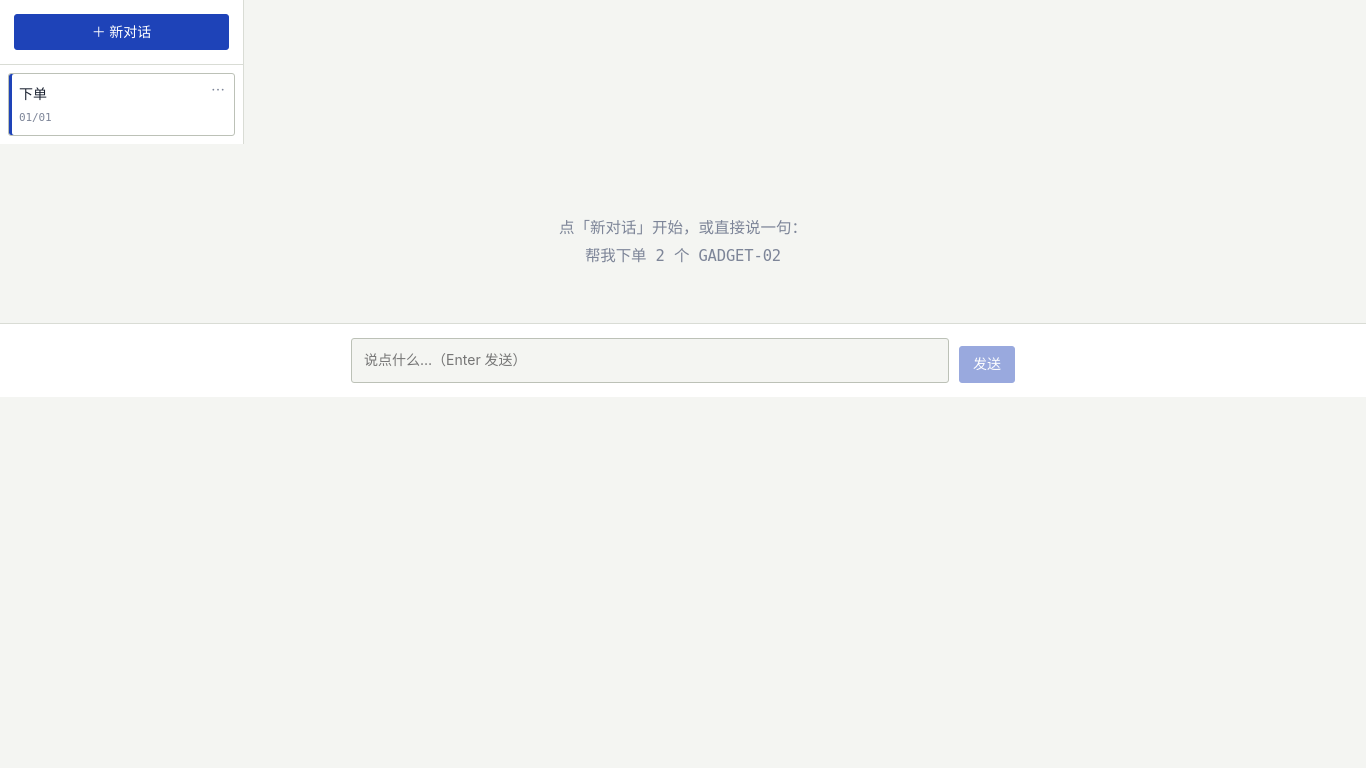
Test case: 忙时入队 › 一轮还在回答时再发一句：不另起一个 Run，而是排进这条会话的队伍
Type "第一句" into the text box with placeholder "说点什么…（Enter 发送）" at {"x": 650, "y": 360}, box 351,338 -> 949,383
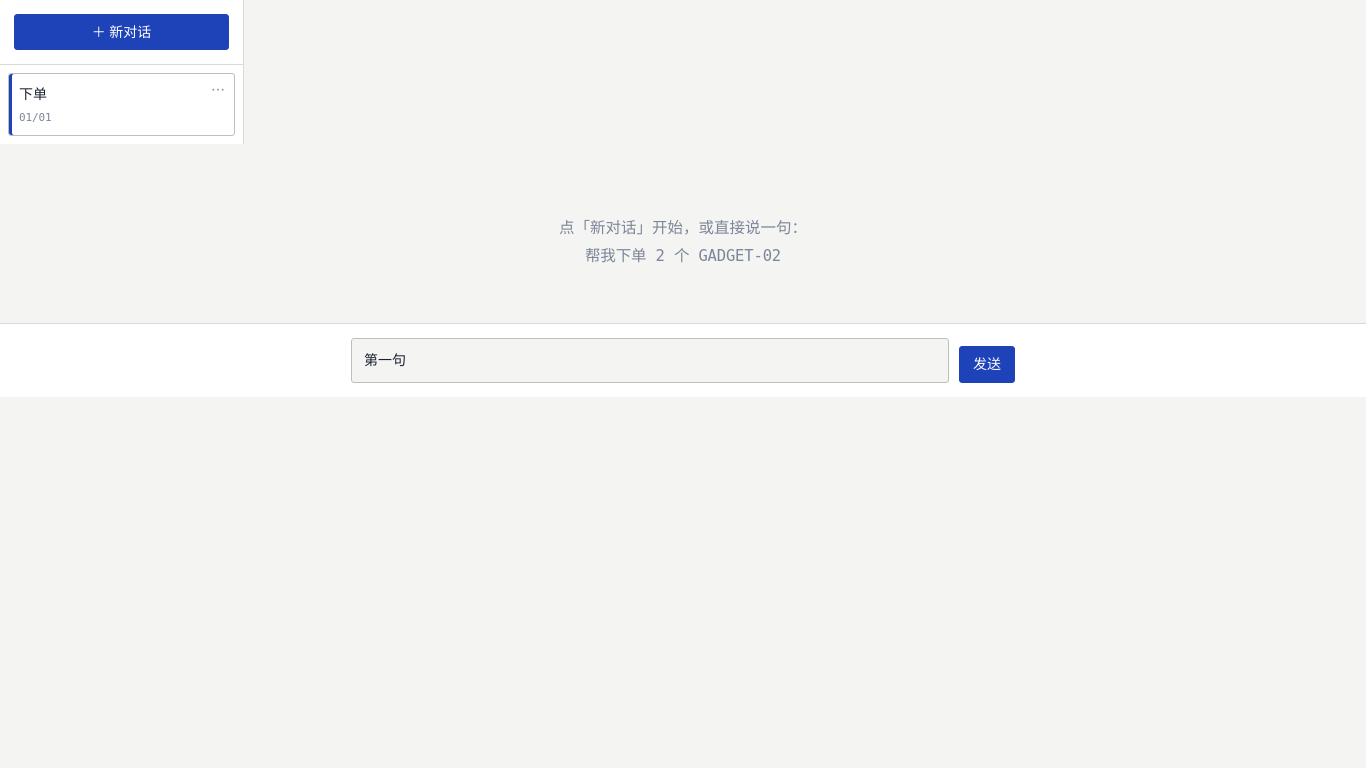
Click the button "发送" at {"x": 987, "y": 364}, box 959,346 -> 1015,383
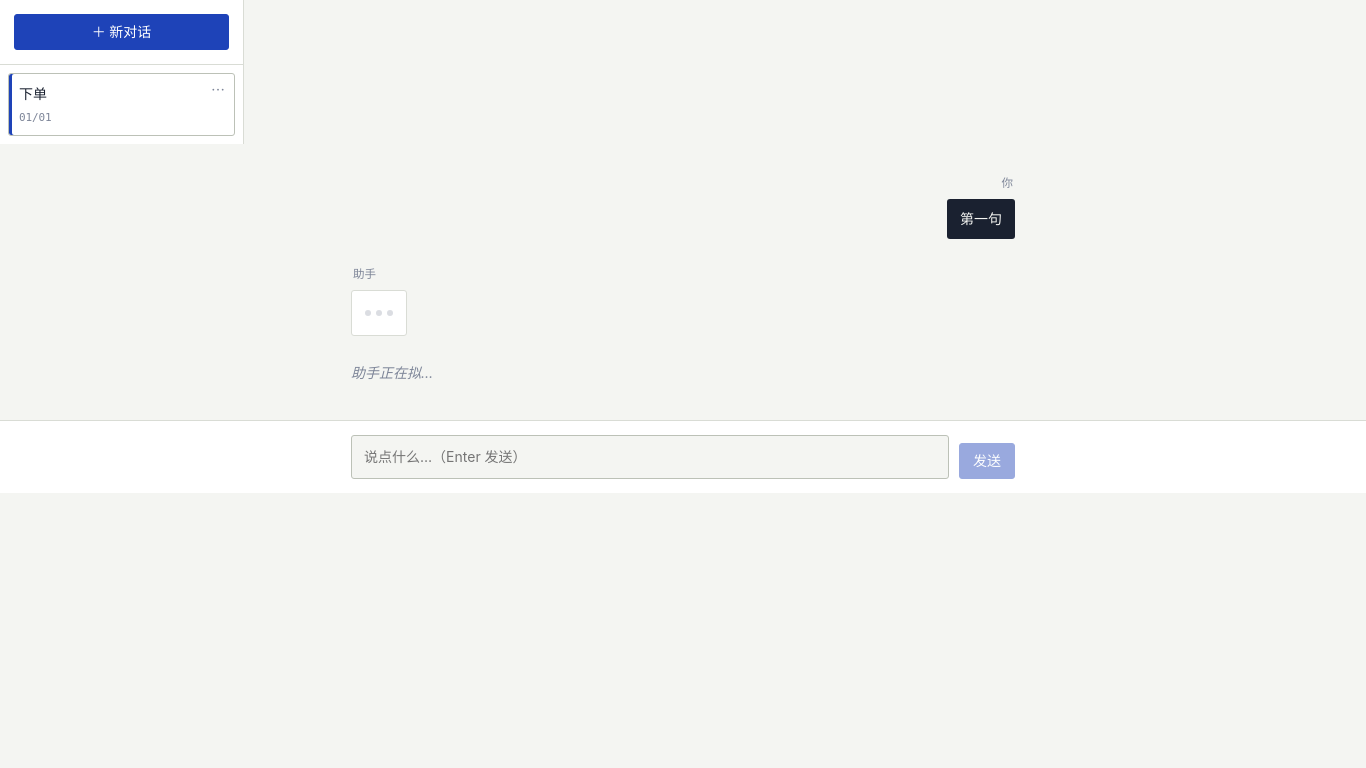
Type "第二句" into the text box with placeholder "说点什么…（Enter 发送）" at {"x": 650, "y": 457}, box 351,435 -> 949,479
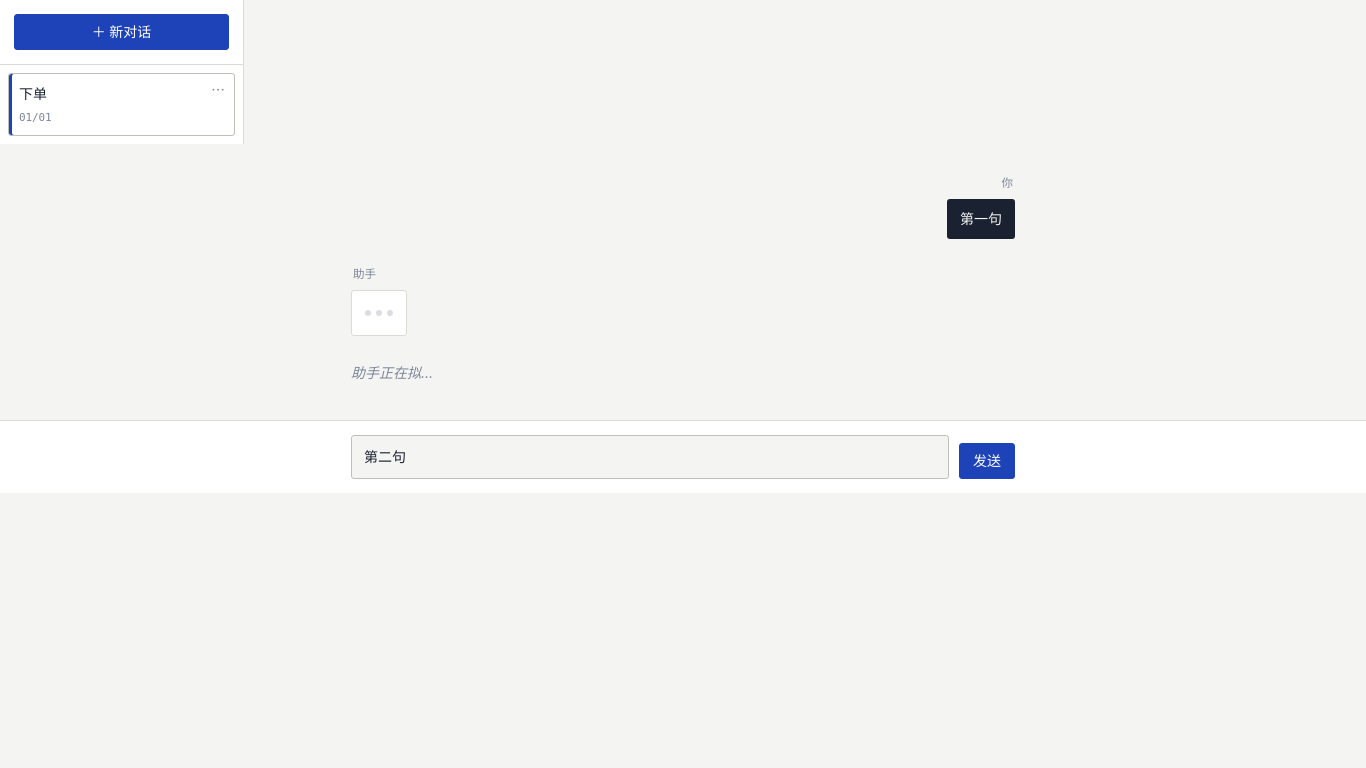
expect the button "发送" is enabled: met
Click the button "发送" at {"x": 987, "y": 461}, box 959,443 -> 1015,479
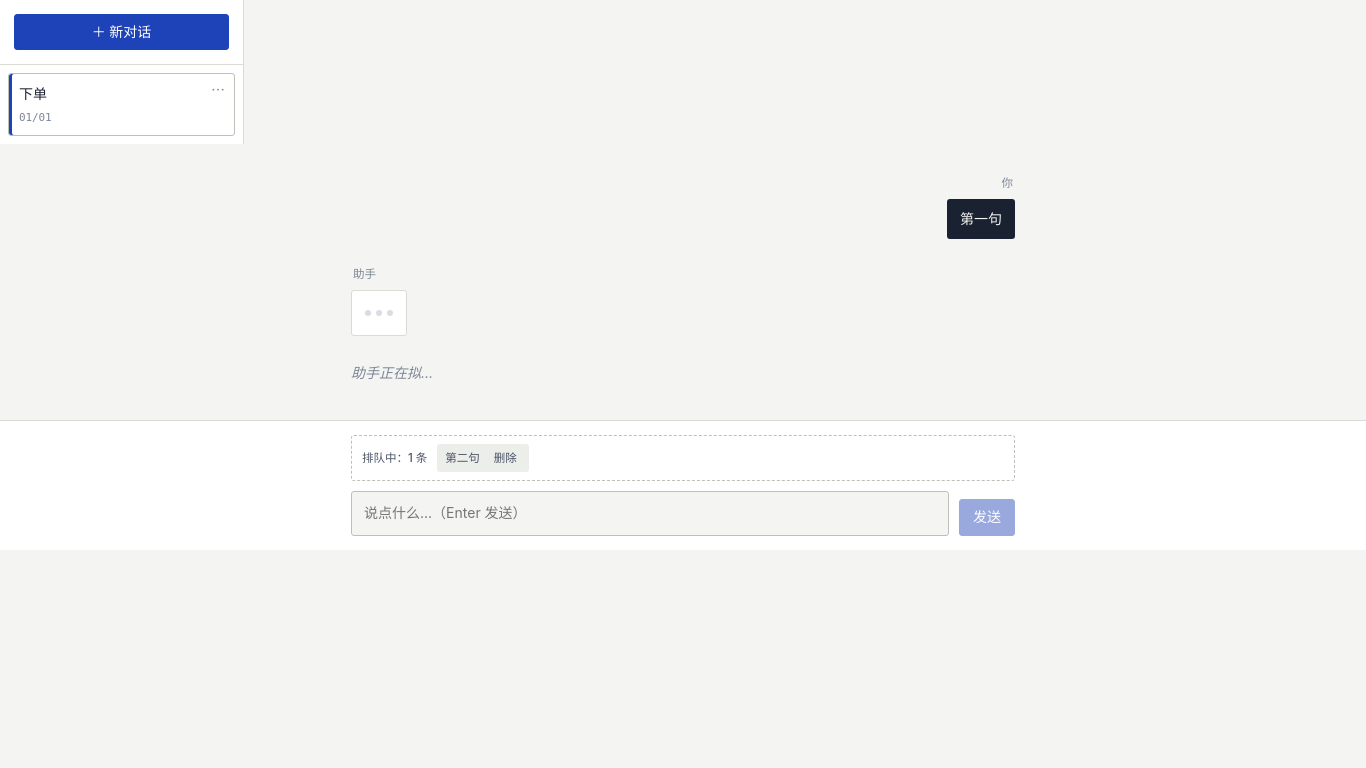
expect the text "排队中：1 条" is shown: met, box 362,449 -> 427,467
expect the text "第二句" is shown: met, box 445,449 -> 480,467
